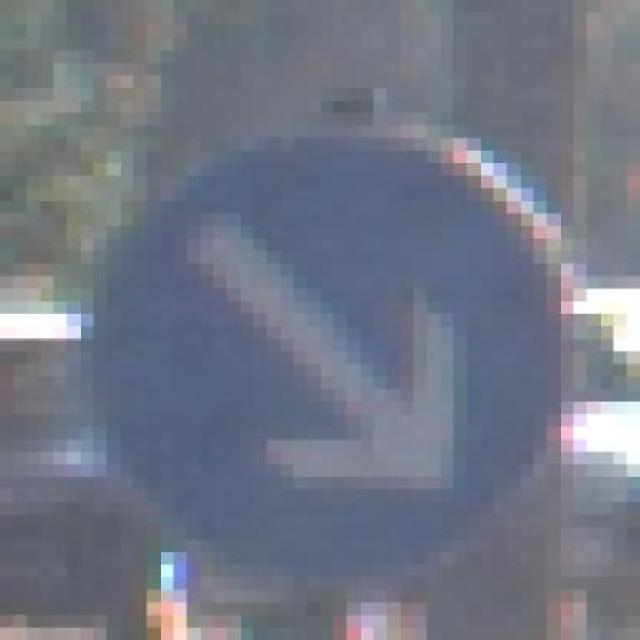Keep-Right: (53, 75, 601, 602)
